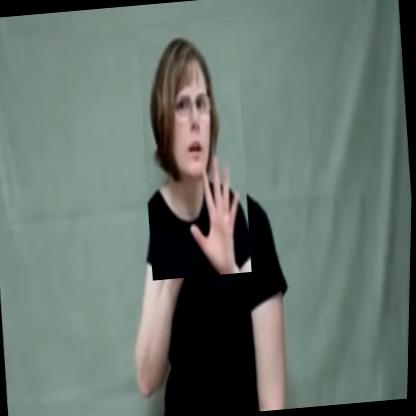Talk: (132, 17, 258, 280)
